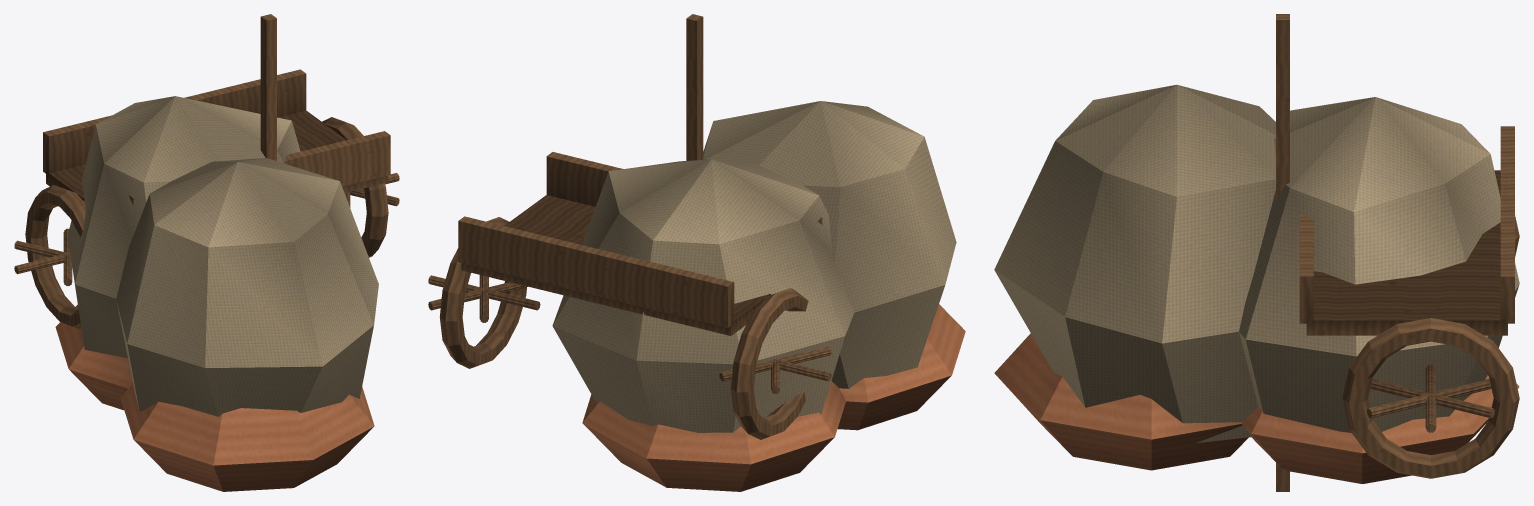
Rendered from barrow_grain.glb.
3 renders of one model, left to right at view 1: azimuth 30°, elevation 25°; view 2: azimuth 150°, elevation 25°; view 3: azimuth 270°, elevation 25°, orthographic. The views are drawn at different scales.
Visible parts, largest first — view 1: barrow_grain; view 2: barrow_grain; view 3: barrow_grain.
Part boxes in pixels (x1=…): barrow_grain: x1=14, y1=14, x2=399, y2=491; barrow_grain: x1=428, y1=14, x2=965, y2=491; barrow_grain: x1=994, y1=14, x2=1519, y2=491.
Bounding box in the file's own units: 0.5012 × 0.4967 × 0.5012.
3 materials, 3 textured.
